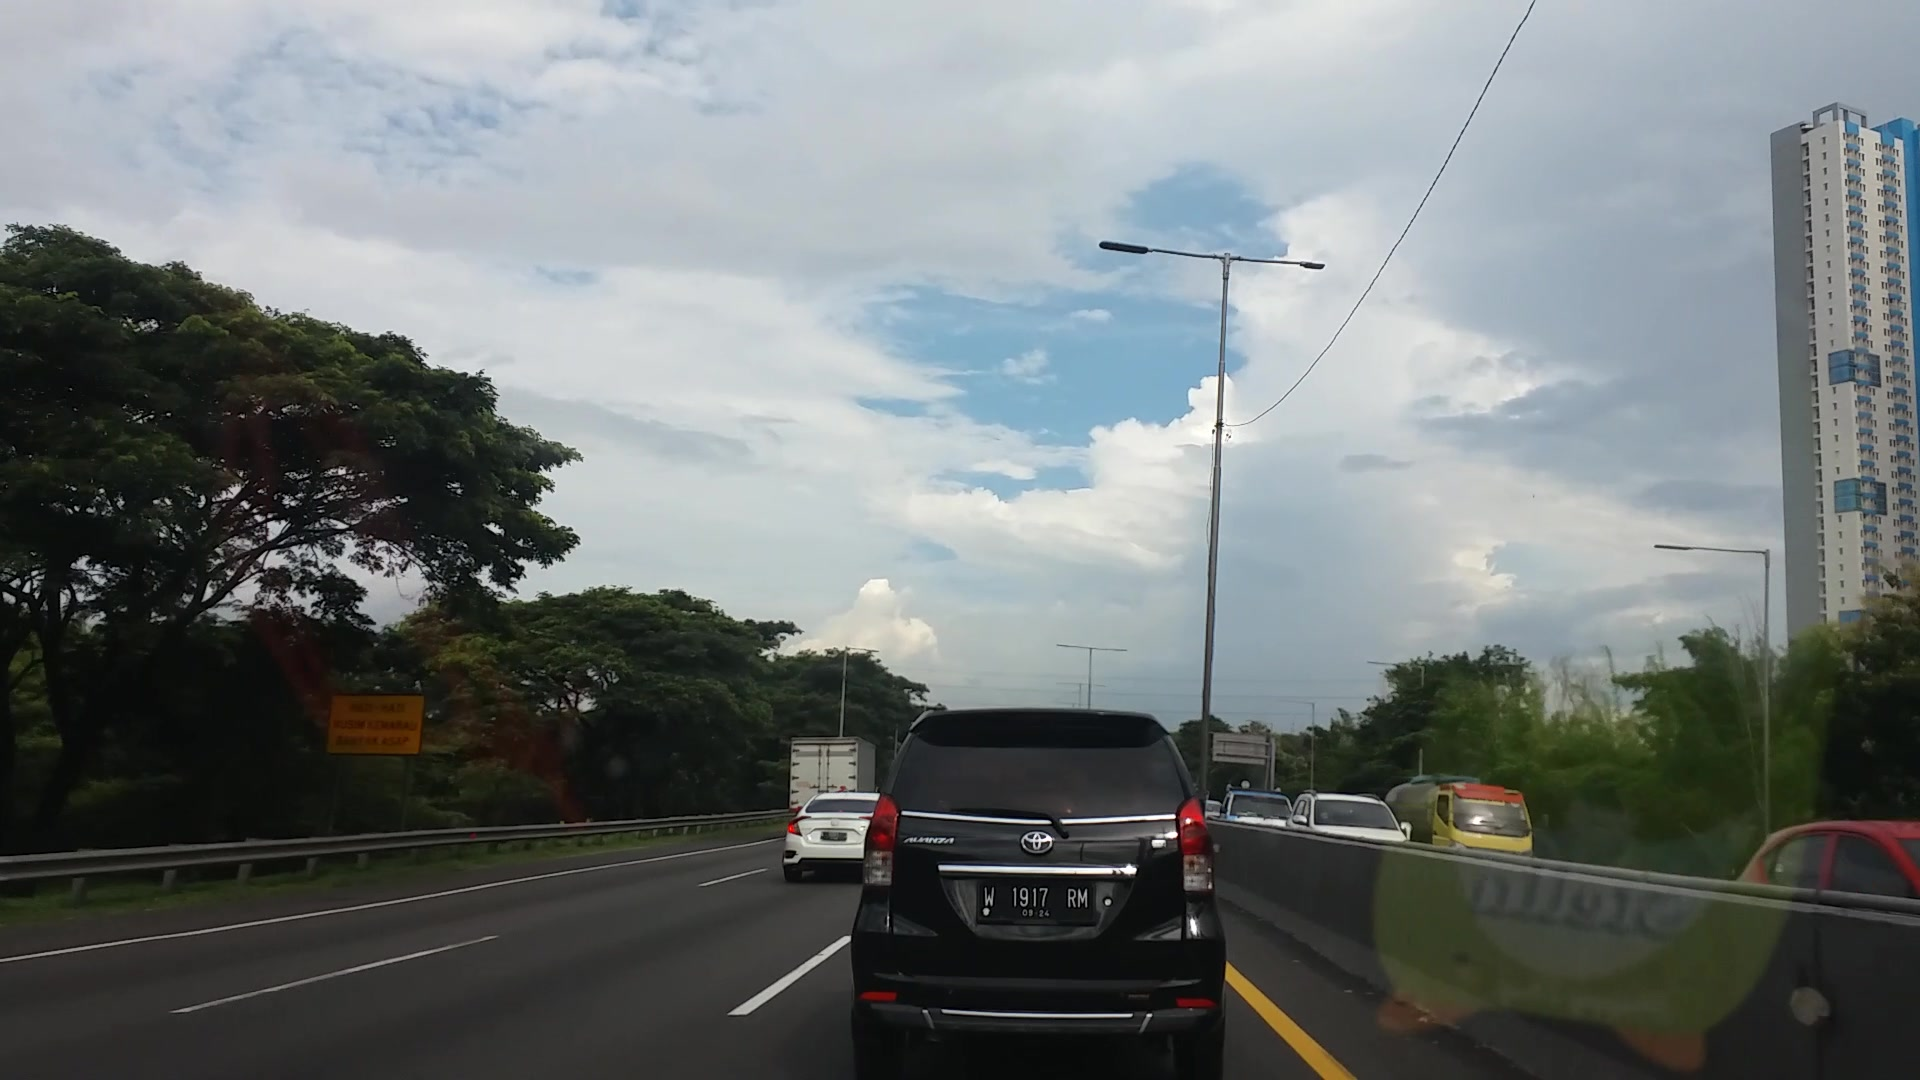plate_positive: (977, 877, 1095, 927)
